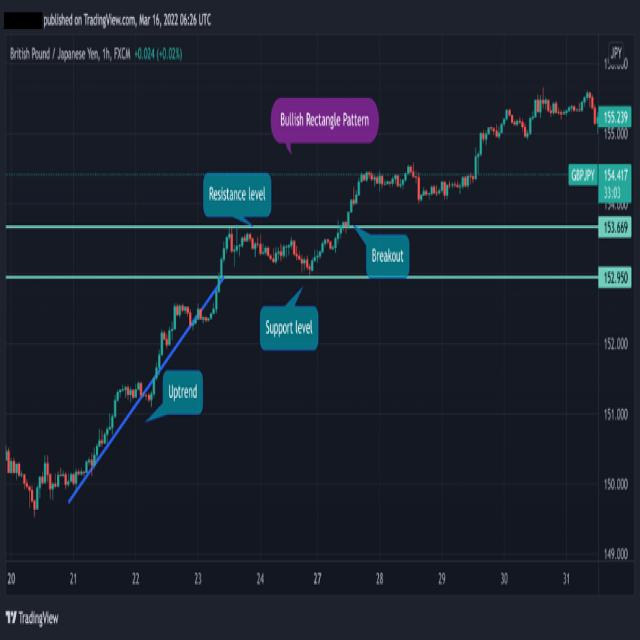rectangle: (211, 228, 343, 275)
